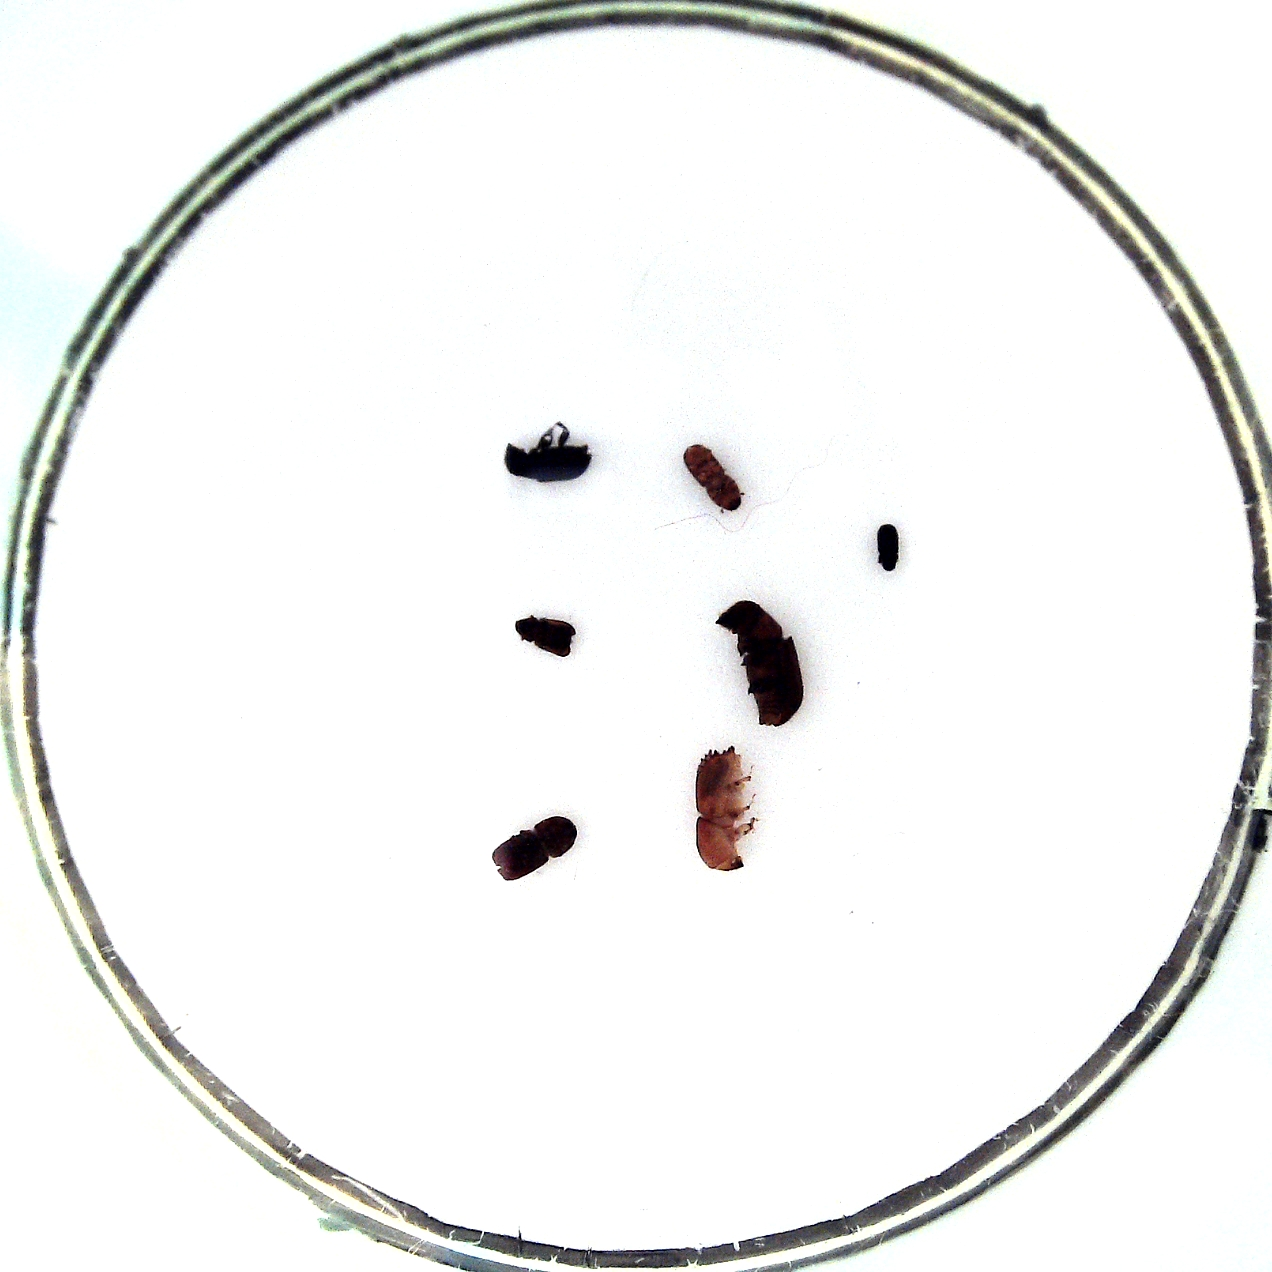Boerner: (694, 745, 754, 871)
Leconte: (715, 600, 804, 727)
acuminatus: (877, 525, 899, 572)
armandi: (503, 443, 592, 483)
coleoptera: (683, 444, 741, 513), (514, 614, 575, 658)
linnaeus: (492, 815, 577, 881)
